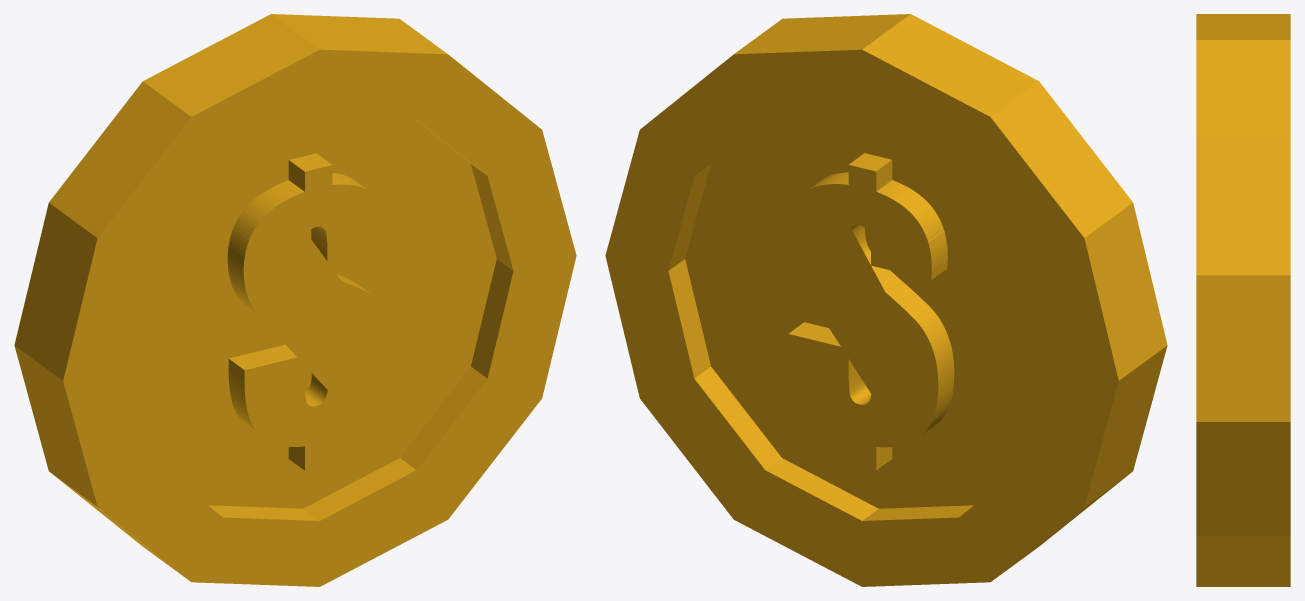
The model's file is coin.fbx.
The picture shows the model from 3 angles, left to right: view 1: azimuth 30°, elevation 25°; view 2: azimuth 150°, elevation 25°; view 3: azimuth 270°, elevation 25°; orthographic projection. The views are drawn at different scales.
Parts seen in each view (by area): view 1: Circle.001; view 2: Circle.001; view 3: Circle.001.
Boxes of the visible parts, box(x1,y1,x2,y2) form: Circle.001: box(14, 14, 576, 586); Circle.001: box(605, 14, 1167, 586); Circle.001: box(1196, 14, 1290, 586).
Size of the model in its own units: 200 by 200 by 32.88.
